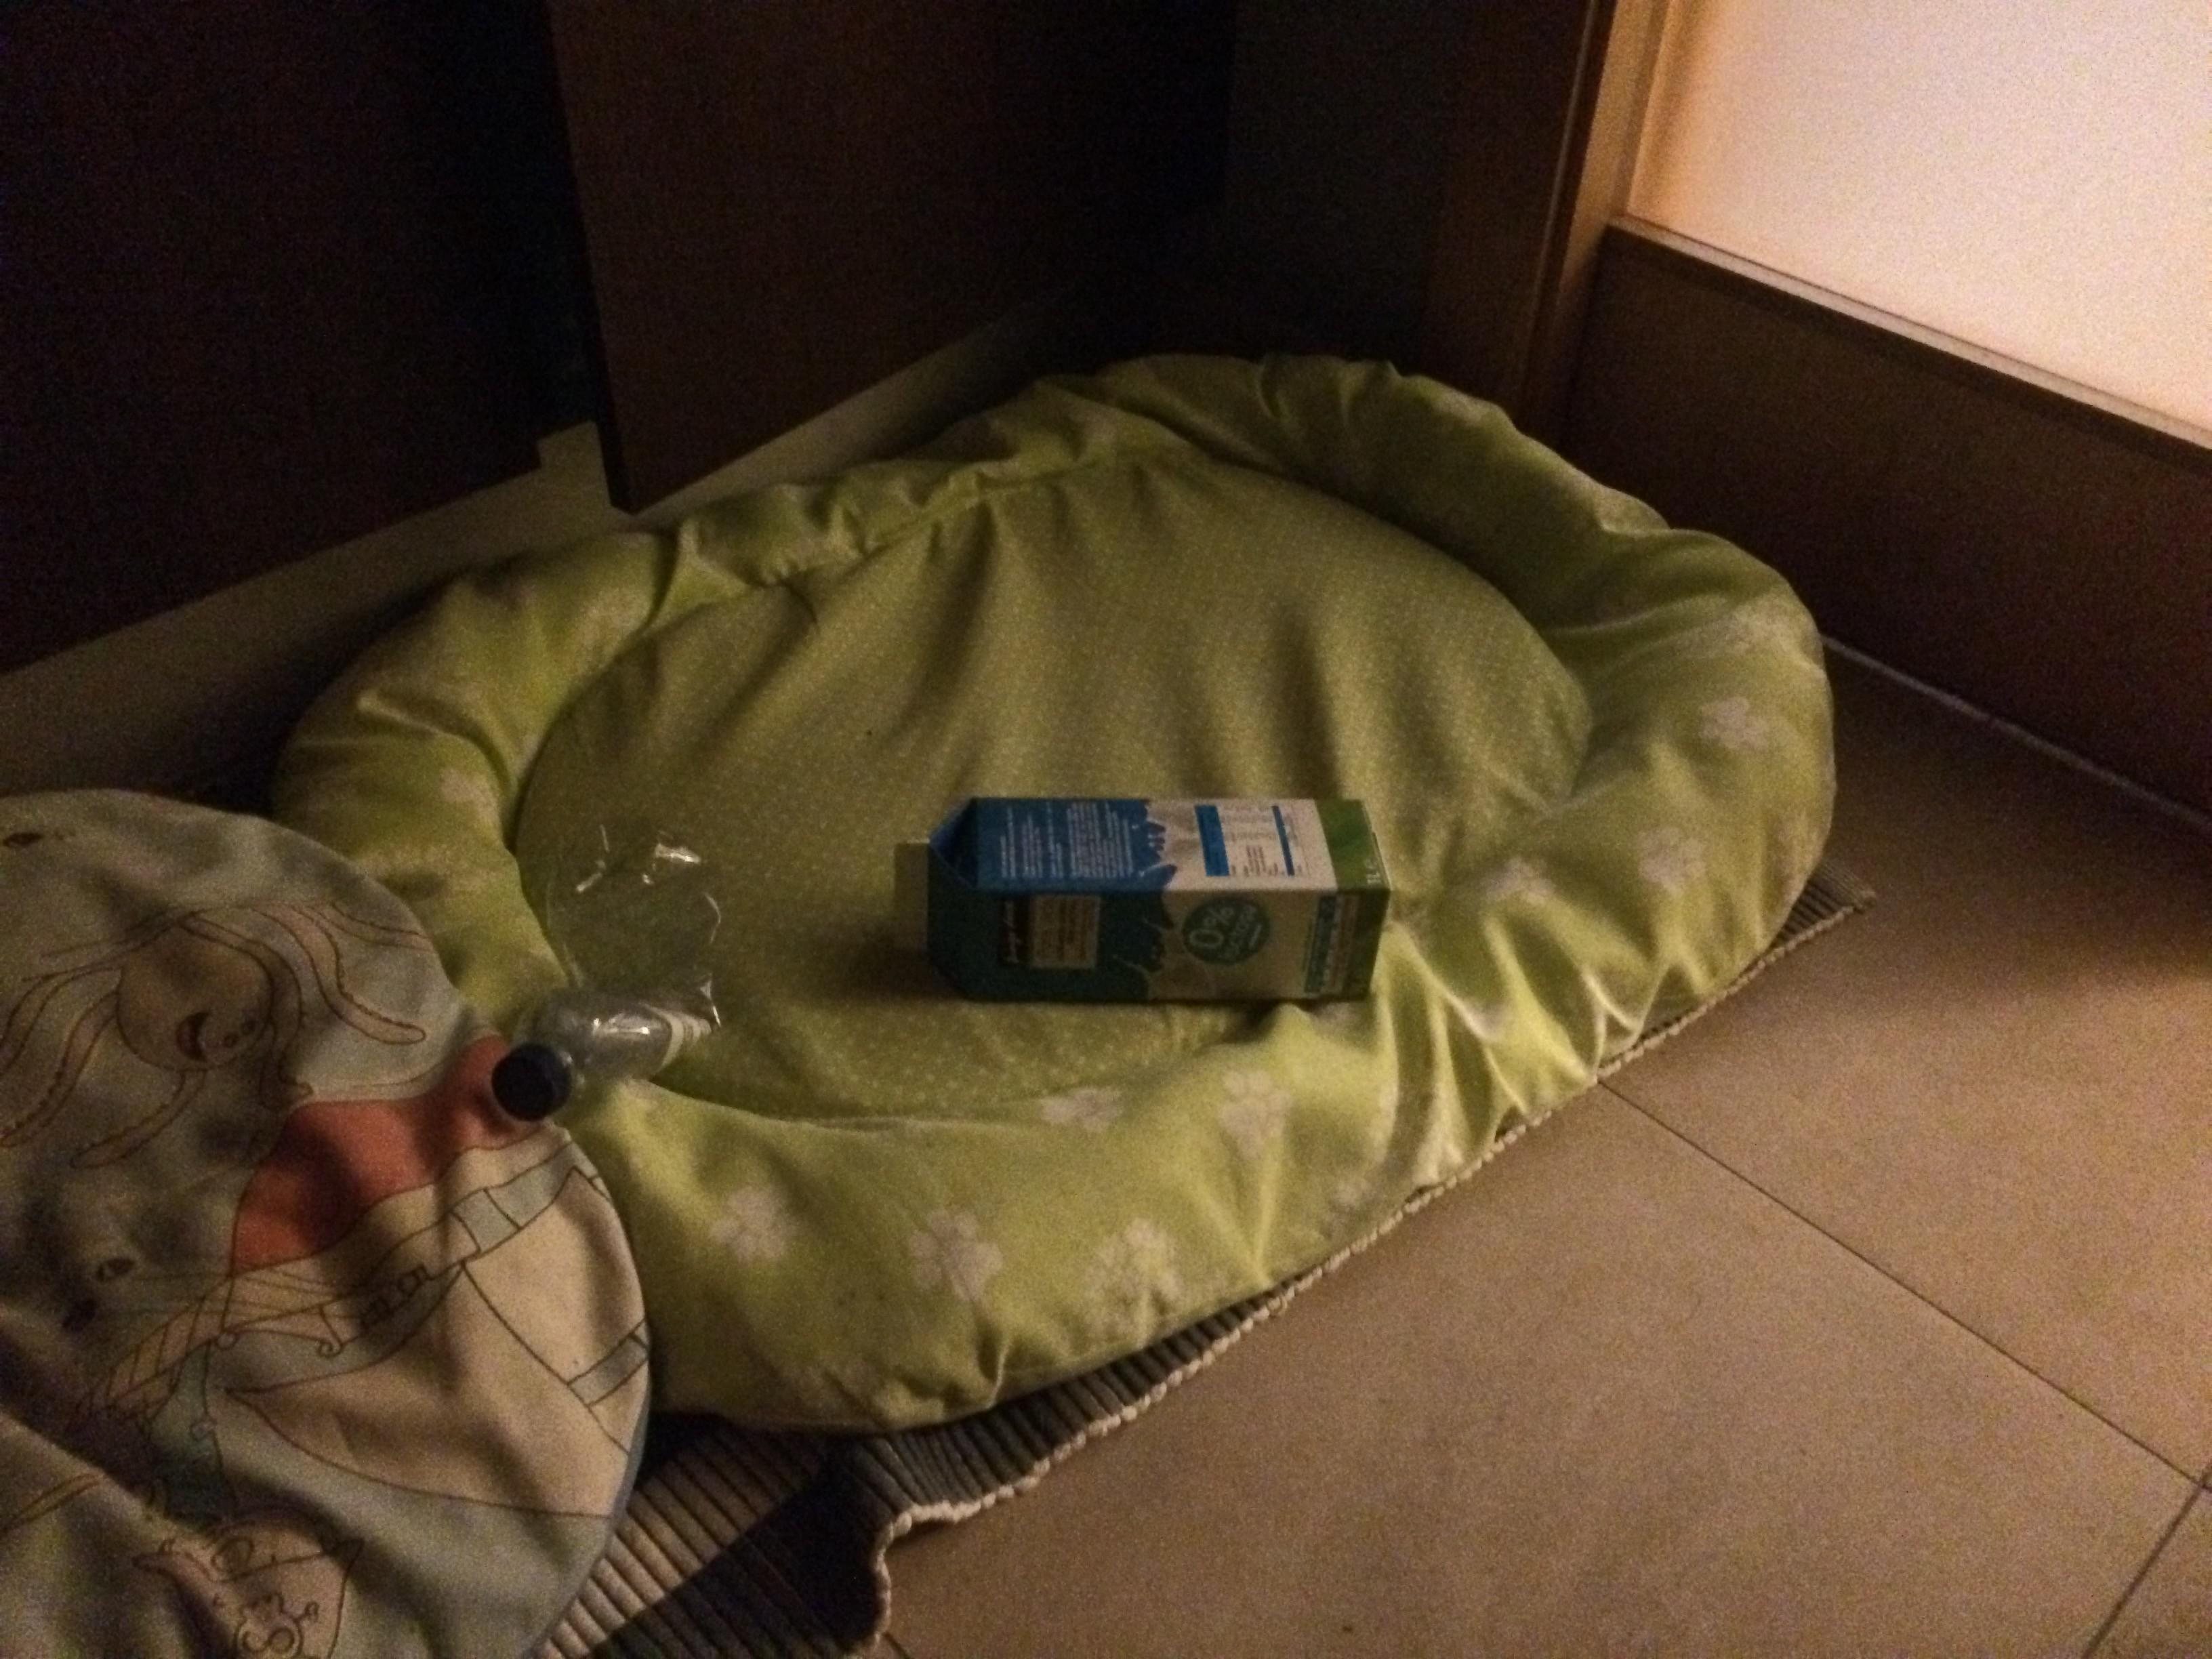Trash: (883, 789, 1390, 1009), (486, 829, 726, 1121)
